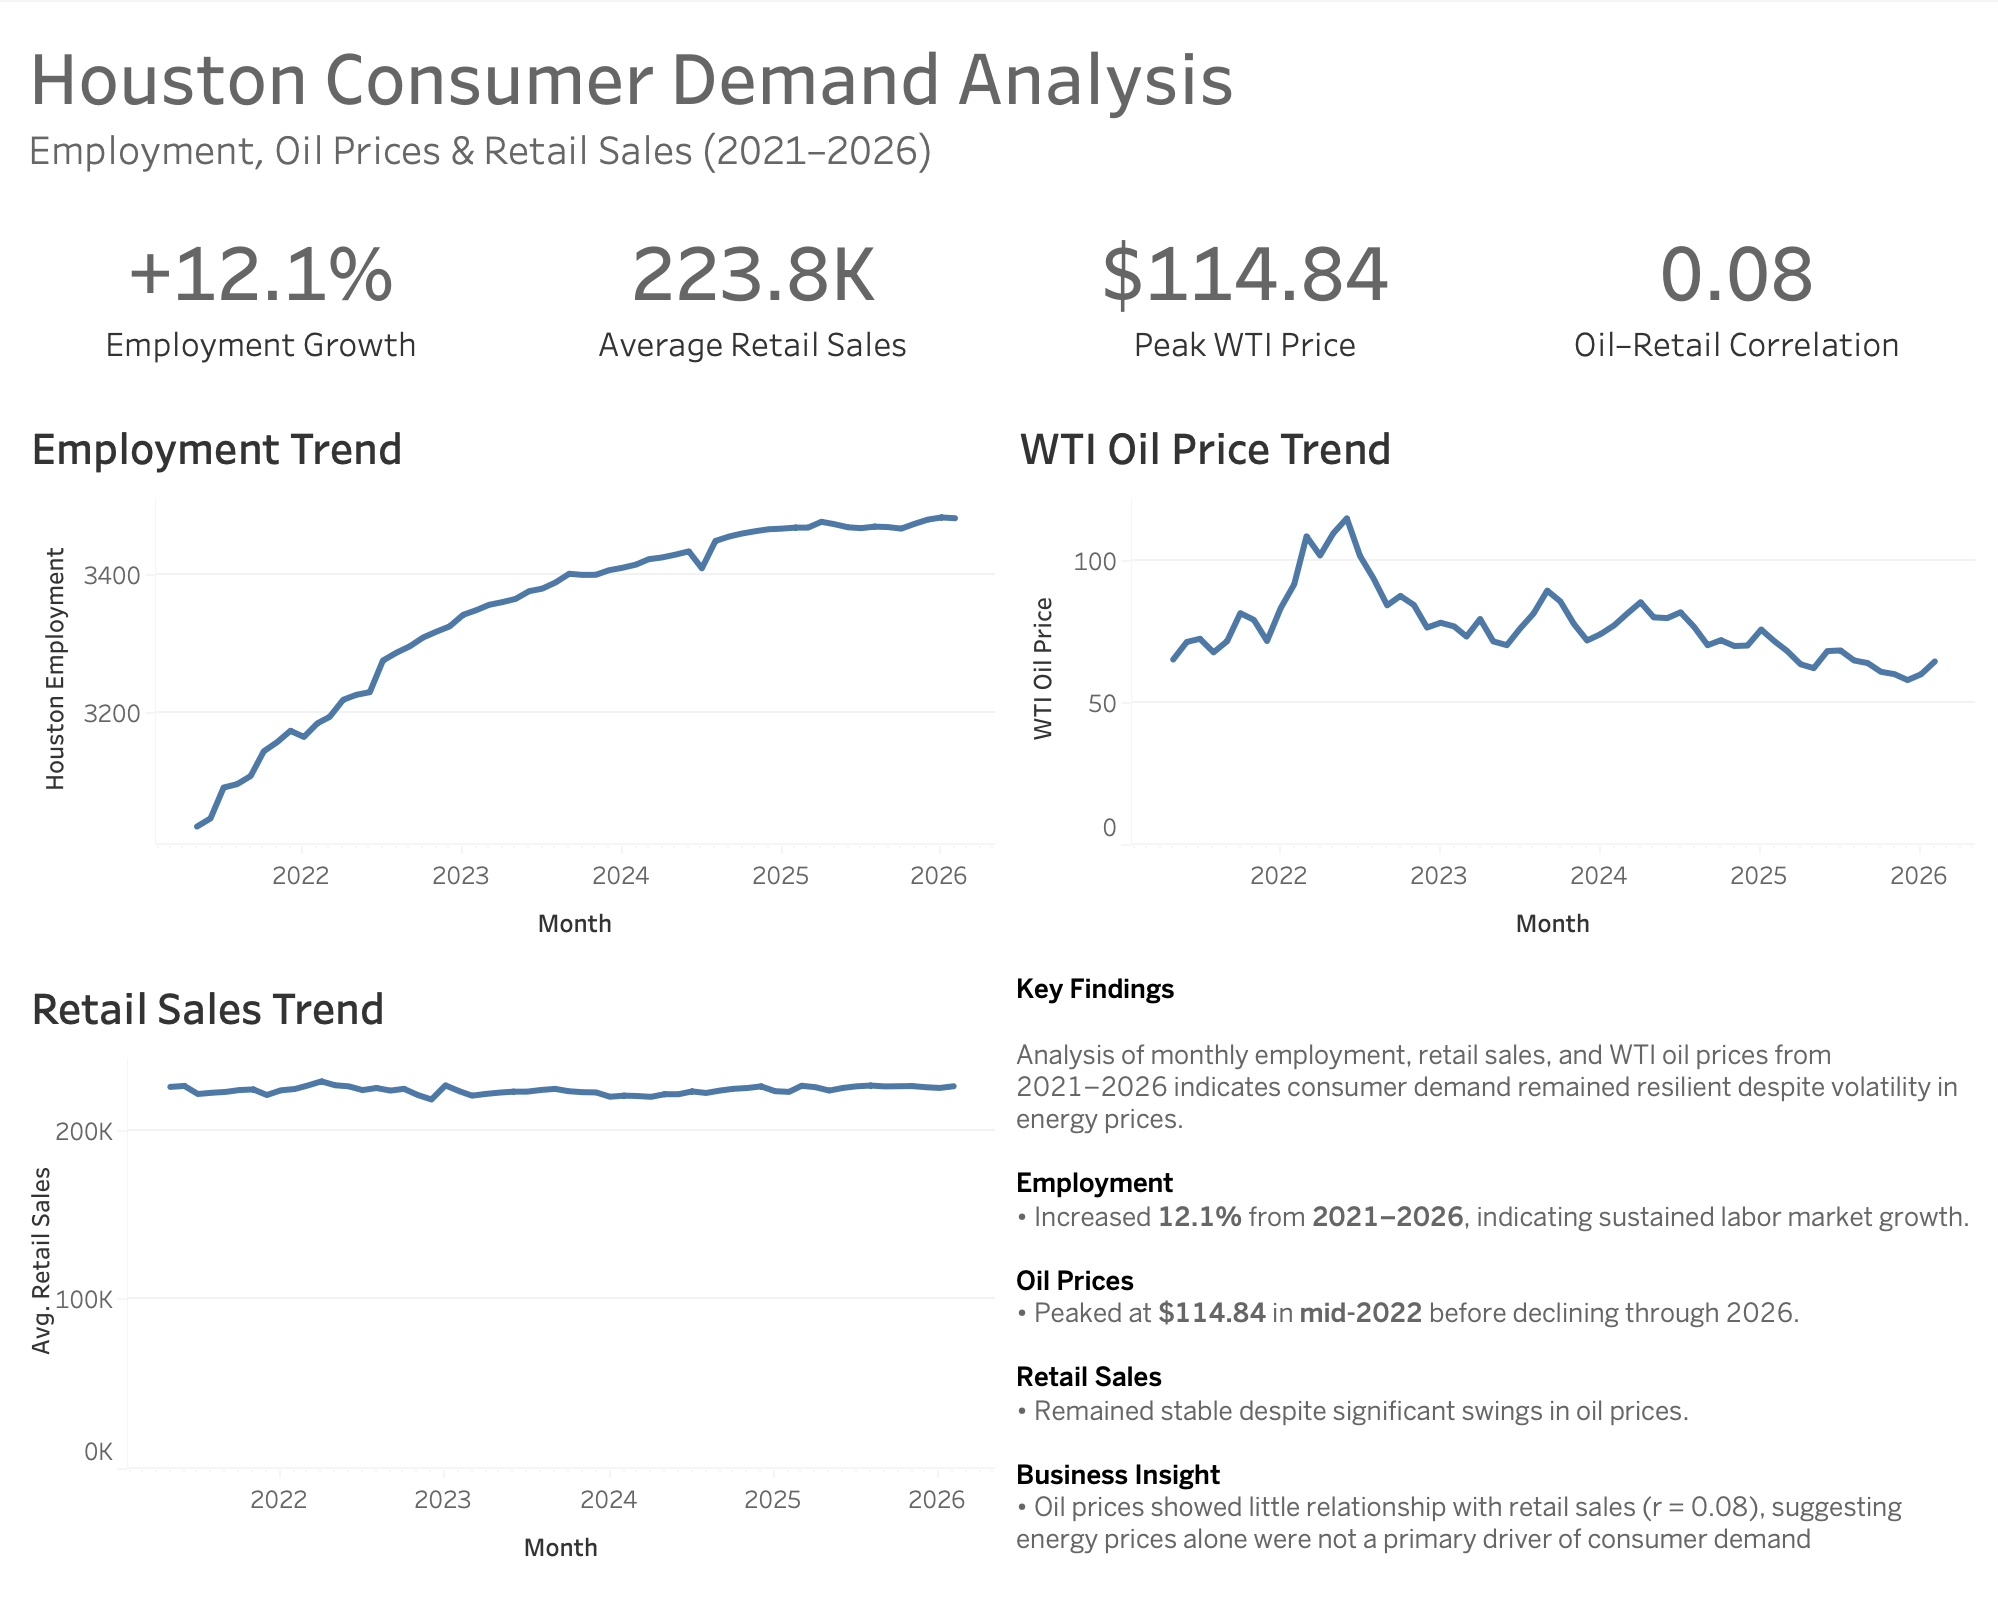

This screenshot's page, from the dashboard's own definition file:
{"tool":"tableau","page":{"name":"Houston Consumer Demand Analysis","canvas":[1000,800],"ordinal":0},"visuals":[{"type":"text","box":[8,8,984,84]},{"type":"text","box":[8,92,246,108]},{"type":"text","box":[254,92,246,108]},{"type":"text","box":[500,92,246,108]},{"type":"text","box":[746,92,246,108]},{"type":"worksheet","title":"Houston Employment Trend","mark":"Automatic","rows":["houston_employment"],"cols":["month"],"box":[8,200,494,280]},{"type":"worksheet","title":"WTI Oil Price Trend","mark":"Automatic","rows":["avg_wti_oil_price"],"cols":["month"],"box":[502,200,490,280]},{"type":"worksheet","title":"Retail Sales Trend","mark":"Line","rows":["retail_sales"],"cols":["month"],"box":[8,480,494,312]},{"type":"text","box":[502,480,490,312]}]}

Visuals, with their boxes in screenshot pixels (x1, y1, x2, y2), scaled from the page's 1000x800 canvas onto the 1998x1601 screenshot:
text: box=[16, 16, 1982, 184]
text: box=[16, 184, 507, 400]
text: box=[507, 184, 999, 400]
text: box=[999, 184, 1491, 400]
text: box=[1491, 184, 1982, 400]
"Houston Employment Trend" worksheet: box=[16, 400, 1003, 961]
"WTI Oil Price Trend" worksheet: box=[1003, 400, 1982, 961]
"Retail Sales Trend" worksheet (Line marks): box=[16, 961, 1003, 1585]
text: box=[1003, 961, 1982, 1585]
